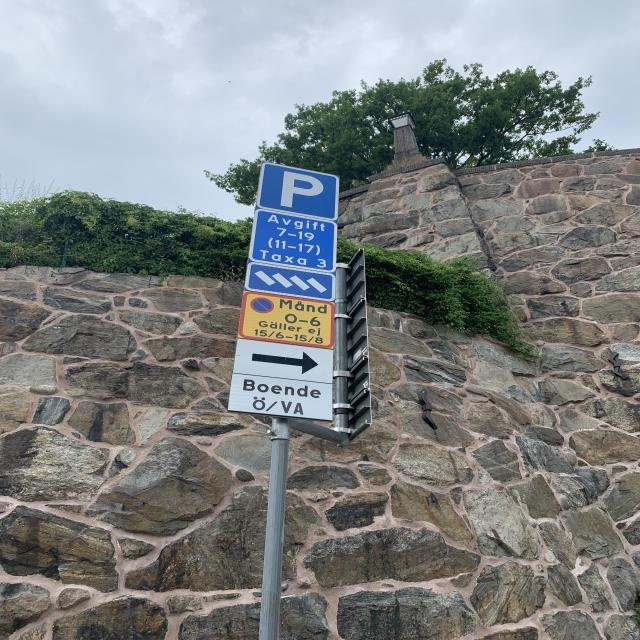P-skylt: (256, 159, 340, 221)
